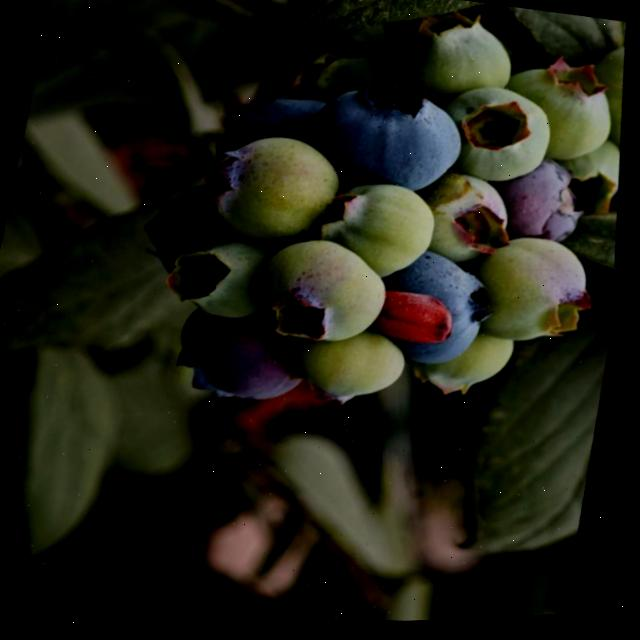RipeBlueBerry: (293, 62, 488, 223), (373, 240, 513, 387)
Semi-RipeBlueBerry: (164, 290, 324, 428)
UnripeBlueBerry: (190, 118, 365, 274), (238, 218, 411, 372), (462, 221, 619, 369), (304, 168, 455, 302), (428, 74, 575, 209), (380, 0, 534, 123), (272, 313, 423, 433)
